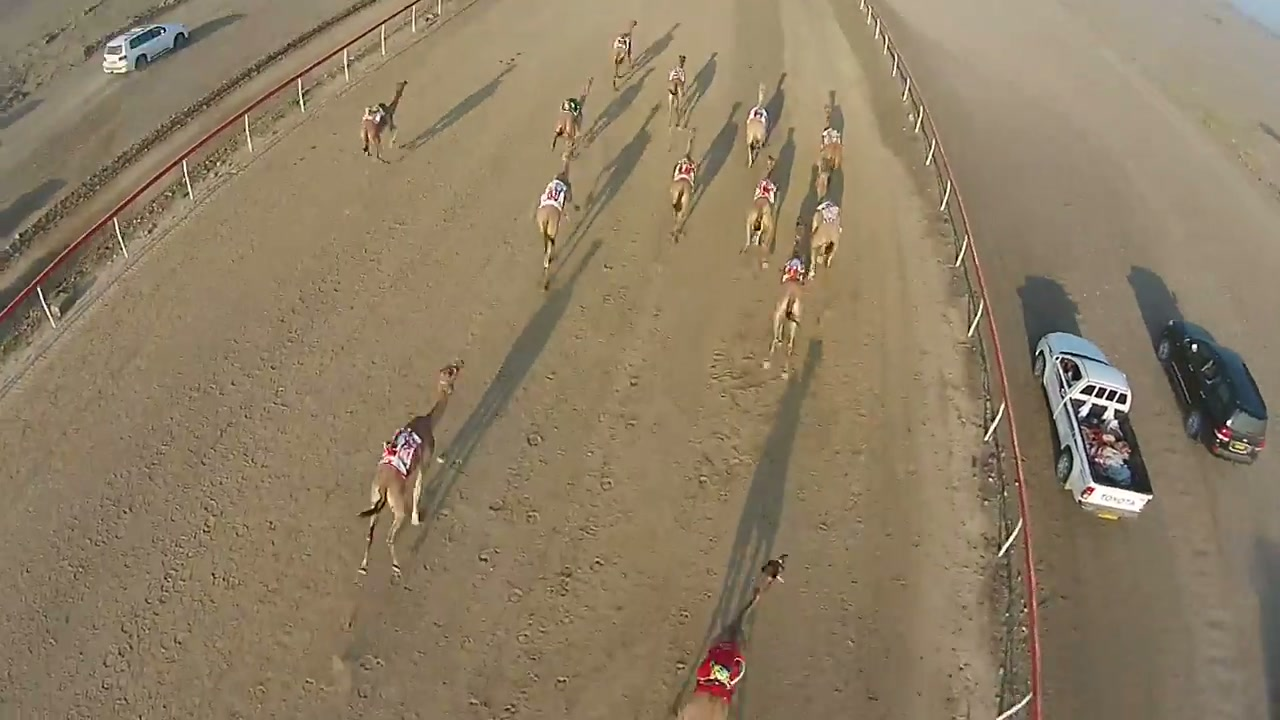animal_footprint: (84, 202, 415, 715), (400, 235, 680, 717), (649, 346, 800, 698), (782, 377, 917, 706)
